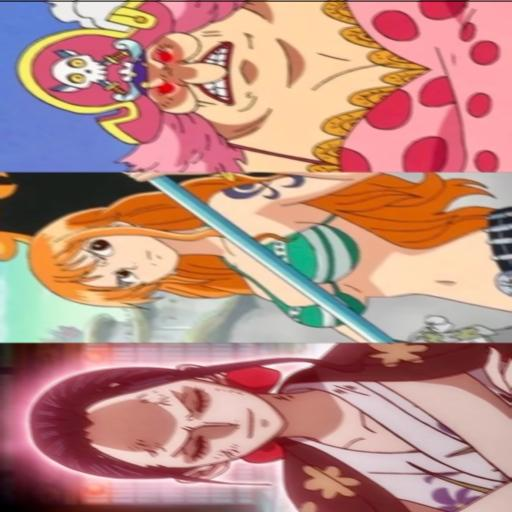Nami: (36, 180, 493, 344)
NicoRobin: (21, 363, 512, 510)
